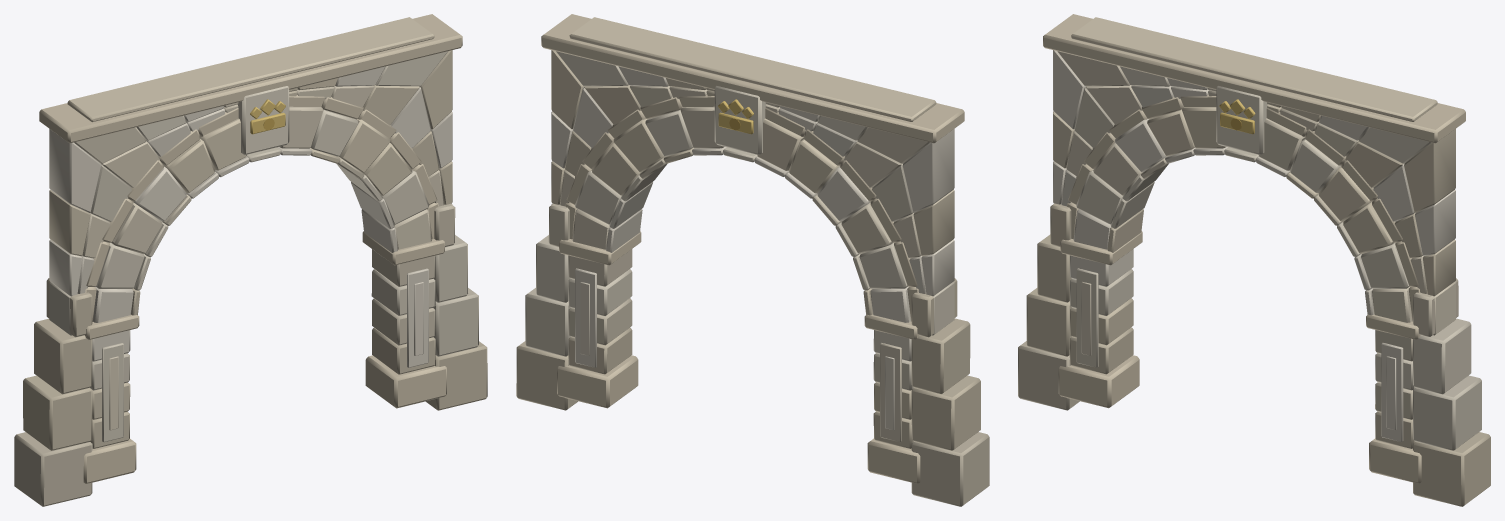
File: cliff_tunnel_arch.glb
The picture shows the model from 3 angles, left to right: view 1: azimuth 30°, elevation 25°; view 2: azimuth 150°, elevation 25°; view 3: azimuth 330°, elevation 25°; orthographic projection.
Visible parts, largest first — view 1: cliff_tunnel_arch; view 2: cliff_tunnel_arch; view 3: cliff_tunnel_arch.
Boxes of the visible parts, box(x1,y1,x2,y2) form: cliff_tunnel_arch: box(14, 14, 487, 506); cliff_tunnel_arch: box(516, 14, 989, 506); cliff_tunnel_arch: box(1018, 14, 1490, 506).
Size of the model in its own units: 104 by 83.78 by 14.7.
